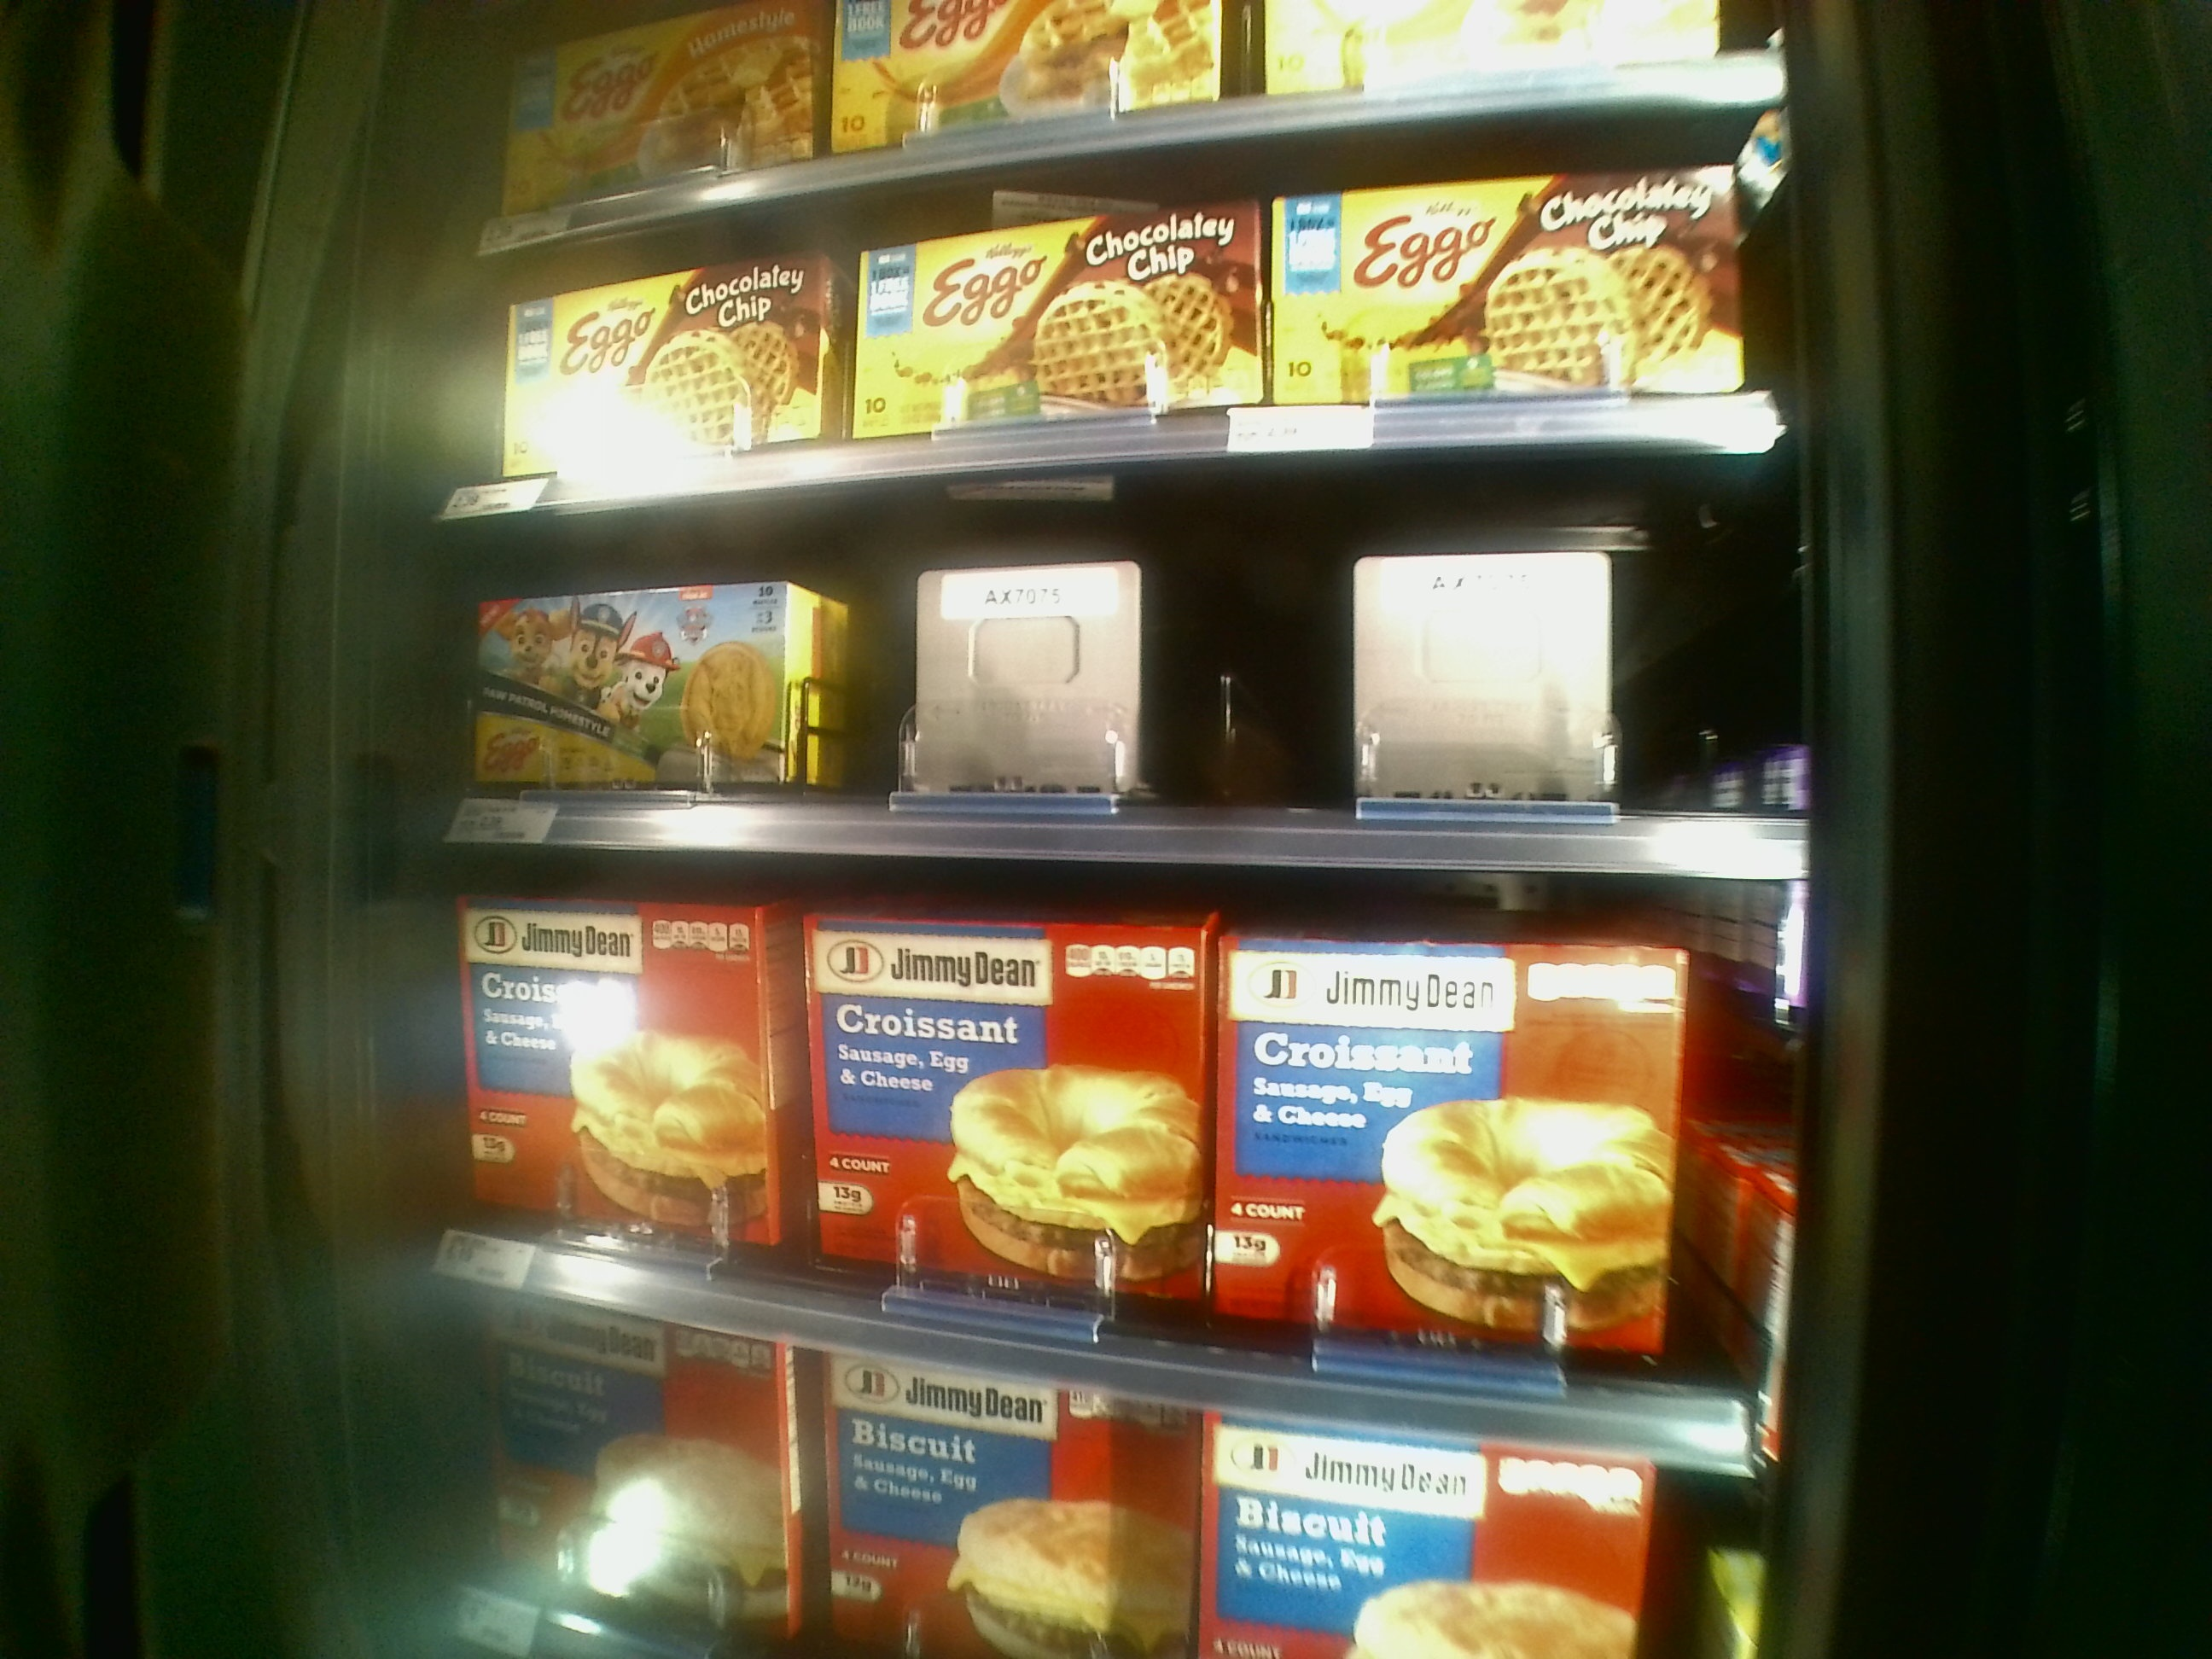shelf: (441, 448, 1792, 878)
